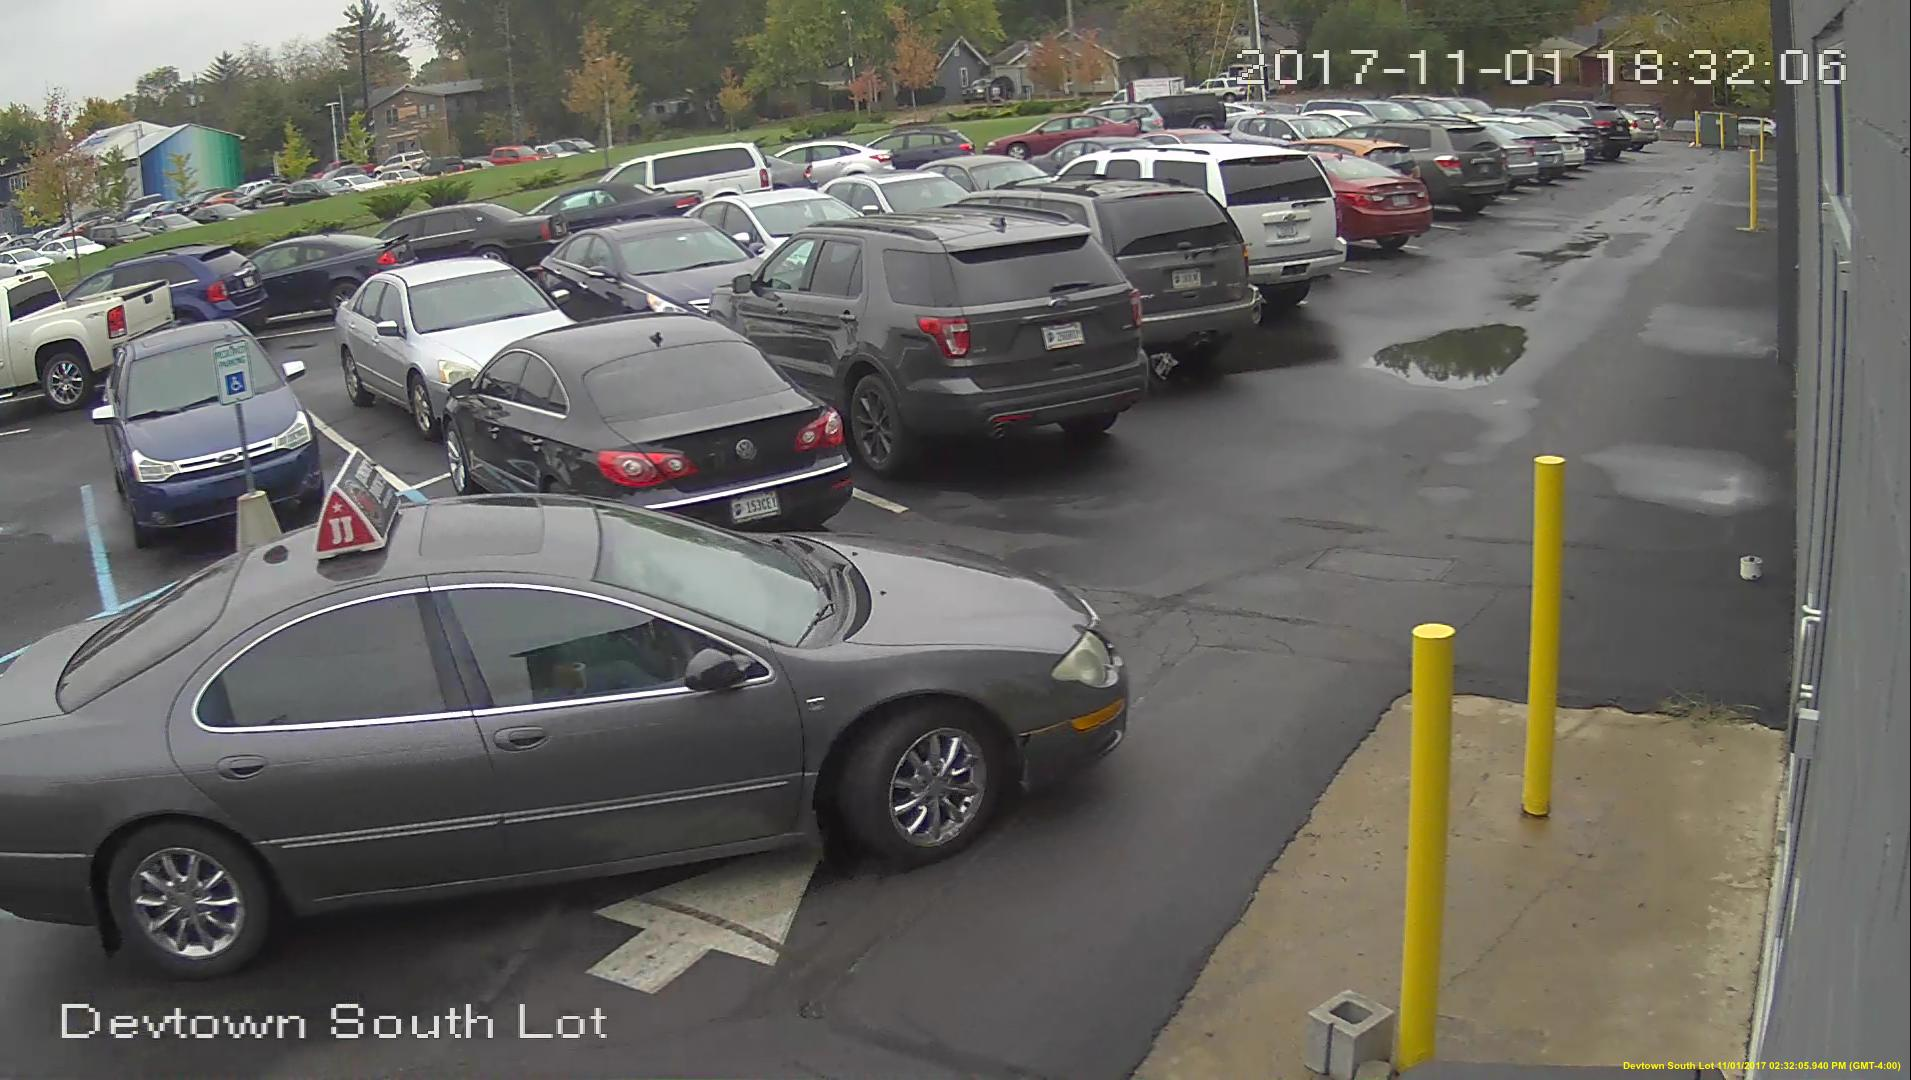jimmy_johns: (308, 449, 403, 566)
